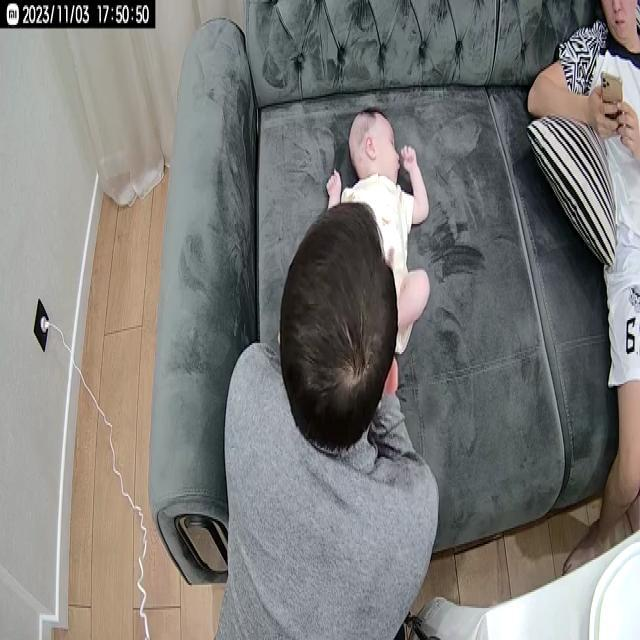baby: (322, 106, 430, 356)
